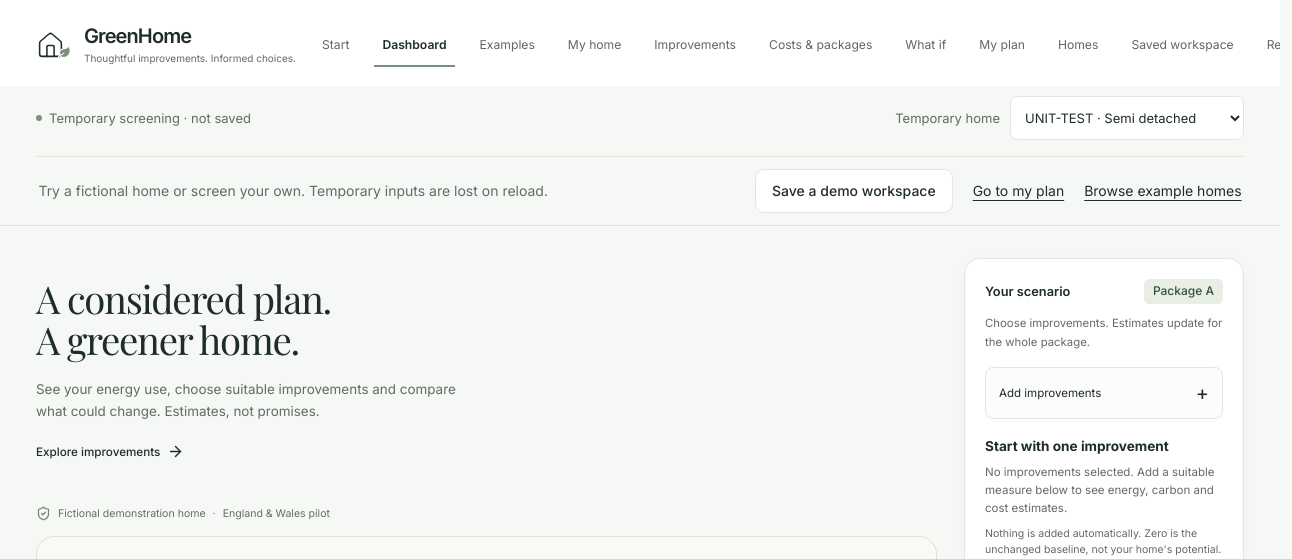
it: lead composition integration — no App/CSS edits › switches homes and resets the selected package
Expected: the heading "A considered plan.A greener home." is shown, left=36, top=272, right=331, bottom=366
Click the heading "Add improvements +" at coordinates (1104, 393), box left=999, top=381, right=1209, bottom=405
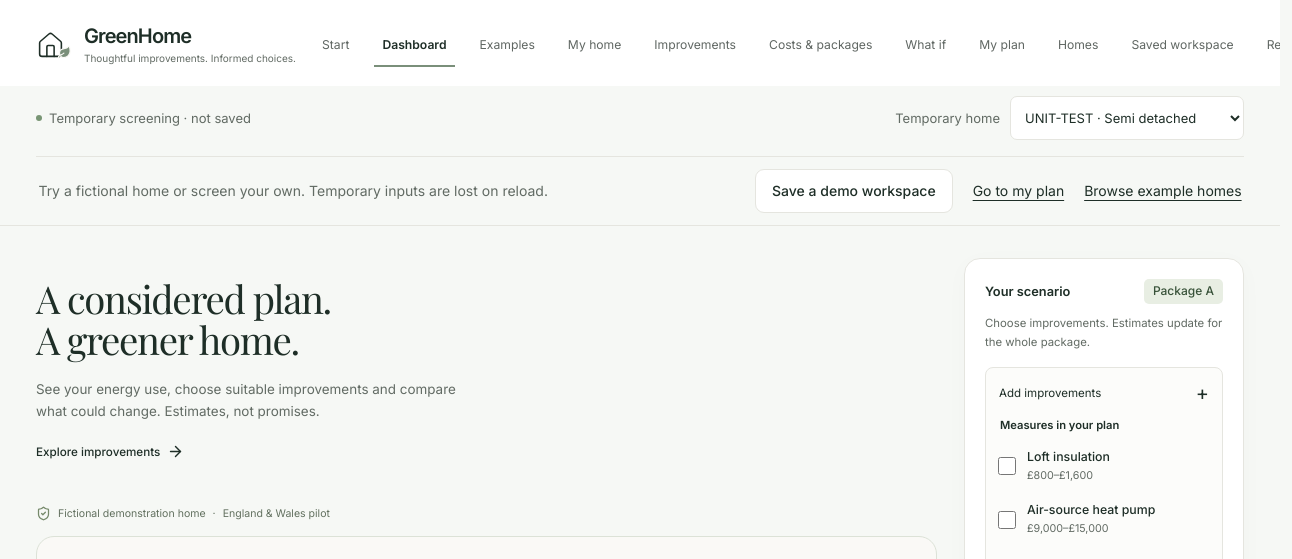
Click the checkbox labelled "Air-source heat pump £9,000–£15,000" at coordinates (1007, 520), box left=998, top=511, right=1016, bottom=529
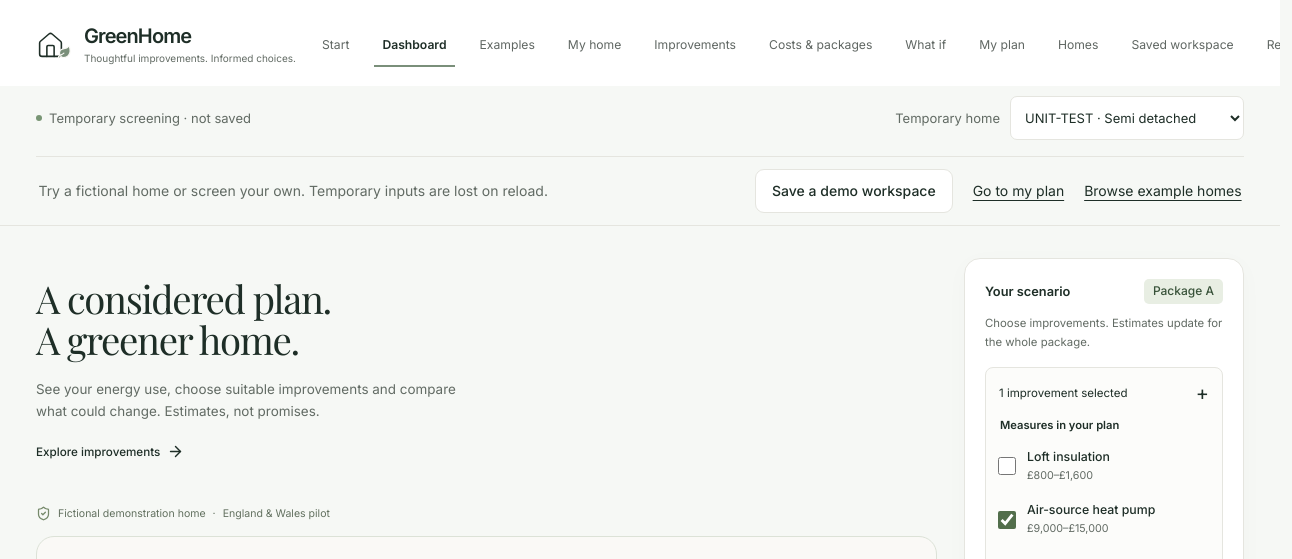
Select "UNIT-FLAT · Flat" in the dropdown named "Choose a home" at coordinates (1127, 118), box left=1010, top=96, right=1244, bottom=140
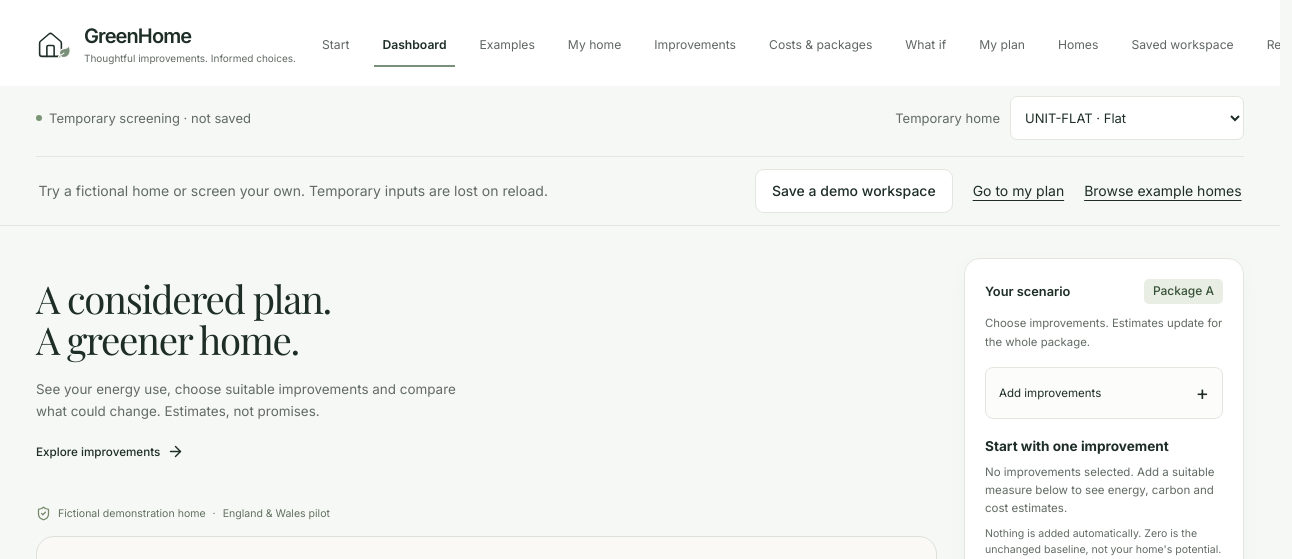
Result: the heading "1 improvement selected" is gone
